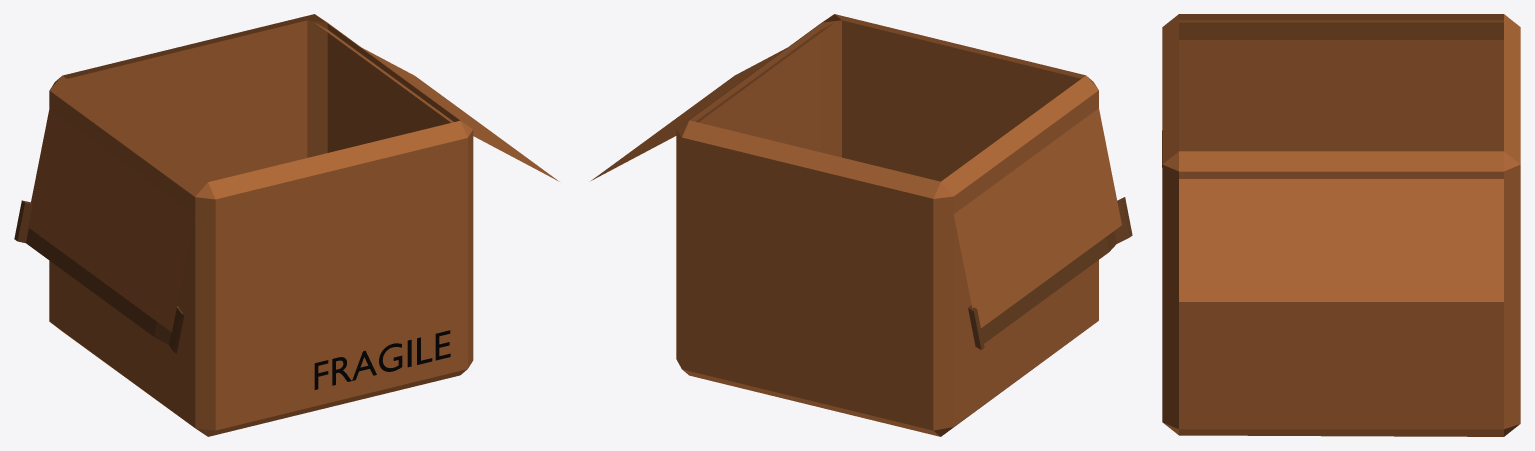
The model's file is finalMovingOpenFullyBoxblend.fbx.
The picture shows the model from 3 angles, left to right: view 1: azimuth 30°, elevation 25°; view 2: azimuth 150°, elevation 25°; view 3: azimuth 270°, elevation 25°; orthographic projection. The views are drawn at different scales.
Parts seen in each view (by area): view 1: Cube, fragile; view 2: Cube; view 3: Cube.
Part boxes in pixels (left/top/right/bottom): Cube: left=14, top=14, right=559, bottom=436; fragile: left=314, top=330, right=450, bottom=389; Cube: left=591, top=14, right=1132, bottom=436; Cube: left=1162, top=14, right=1520, bottom=436.
Bounding box in the file's own units: 65.22 × 40.21 × 45.84.
